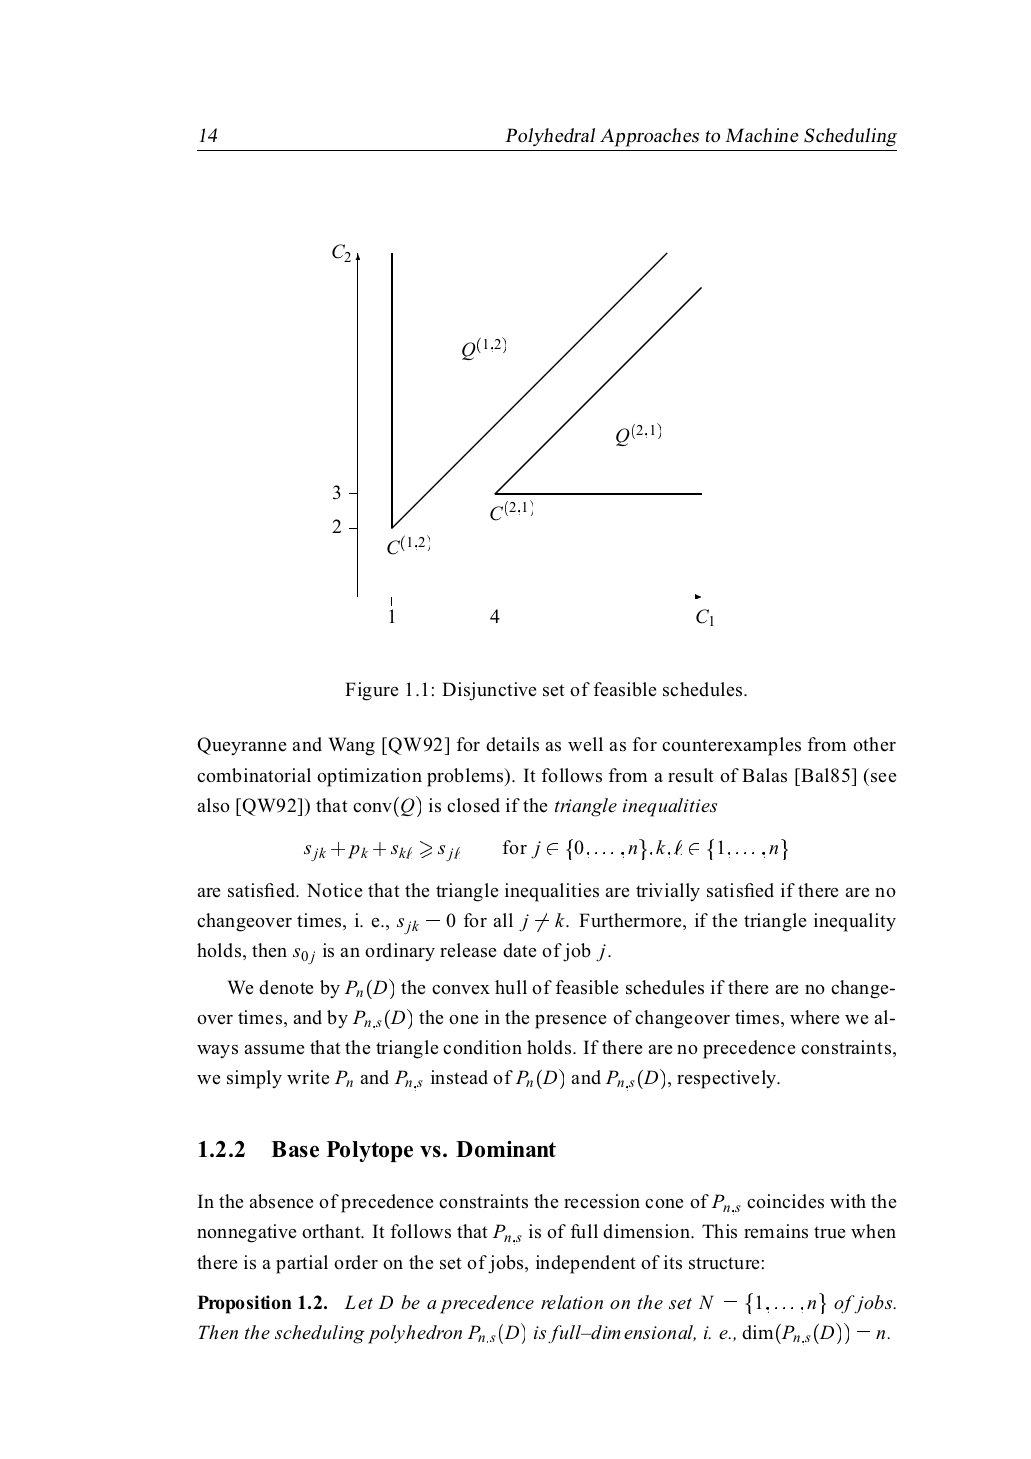figure: (333, 244, 713, 625)
formula: (303, 838, 787, 862)
